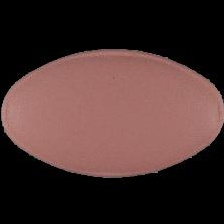52959-944: (0, 0, 224, 224)
